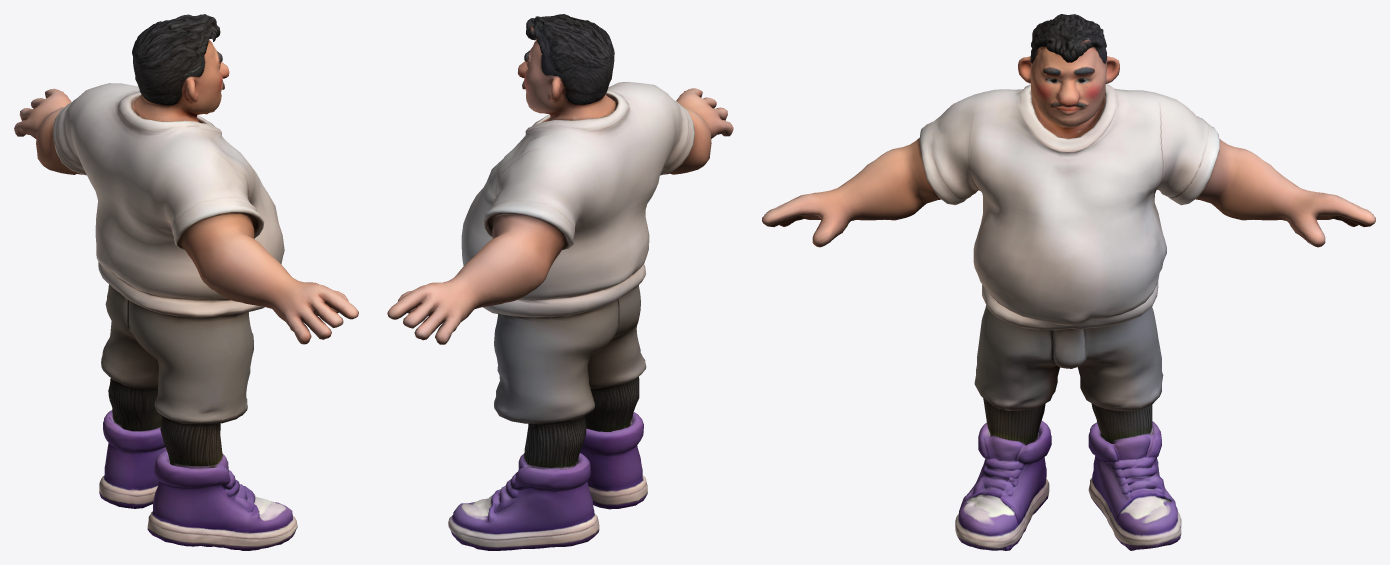
3 renders of one model, left to right at view 1: azimuth 30°, elevation 25°; view 2: azimuth 150°, elevation 25°; view 3: azimuth 270°, elevation 25°, orthographic.
Visible parts, largest first — view 1: tripo_node_d2f870b1; view 2: tripo_node_d2f870b1; view 3: tripo_node_d2f870b1.
Boxes of the visible parts, x1=… form: tripo_node_d2f870b1: x1=14, y1=14, x2=358, y2=550; tripo_node_d2f870b1: x1=387, y1=14, x2=733, y2=550; tripo_node_d2f870b1: x1=762, y1=14, x2=1375, y2=550.
Size of the model in its own units: 0.3072 by 0.9022 by 1.
Materials: 1 (1 with a texture image).
